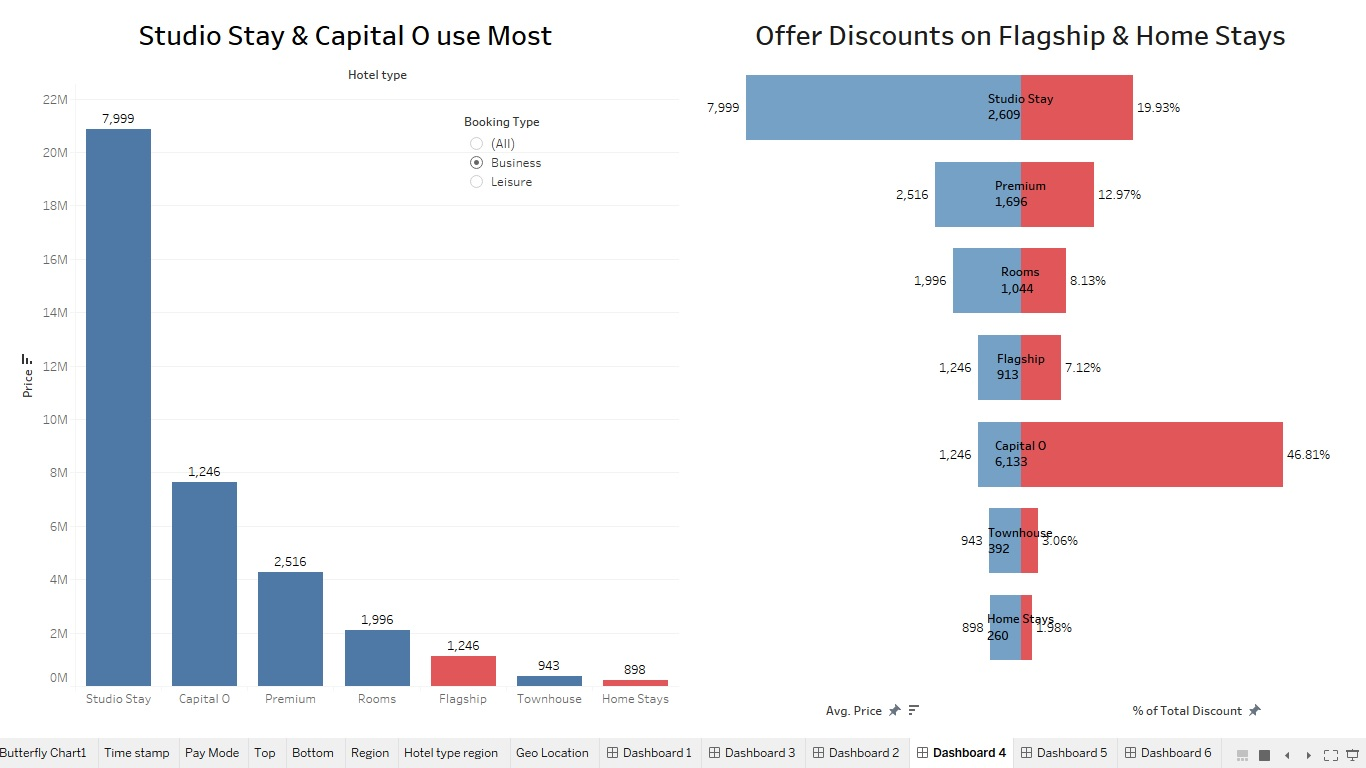

The dashboard page shown, as its layout file describes it:
{"tool":"tableau","page":{"name":"Dashboard 4","canvas":[1000,1000],"units":"permille","ordinal":3},"visuals":[{"type":"worksheet","title":"Hotel type","mark":"Automatic","rows":["Price"],"cols":["Hotel_type"],"box":[6.9,13.5,493,973]},{"type":"worksheet","title":"Butterfly Chart1","mark":"Automatic","rows":["Hotel_type"],"cols":["Price","Calculation_41939791276273670","Discount","Calculation_41939791276273670"],"box":[500,13.5,493.1,973]},{"type":"filter","title":"Hotel type","param":"[federated.02ywmwl043gm9t17ci74g0jf1cxd].[none:Calculation_166633190341967872:nk","box":[339.4,153.7,156.7,148.7]}]}

Visuals, with their boxes on the dashboard's canvas, which has no fixed pixel size, in thousandths of its width and height (x1, y1, x2, y2). These are canvas units, not pixel positions in the 1366x768 screenshot, which may show the page scaled, cropped or inside an application window:
"Hotel type" worksheet: BBox(7, 14, 500, 986)
"Butterfly Chart1" worksheet: BBox(500, 14, 993, 986)
"Hotel type" filter: BBox(339, 154, 496, 302)
